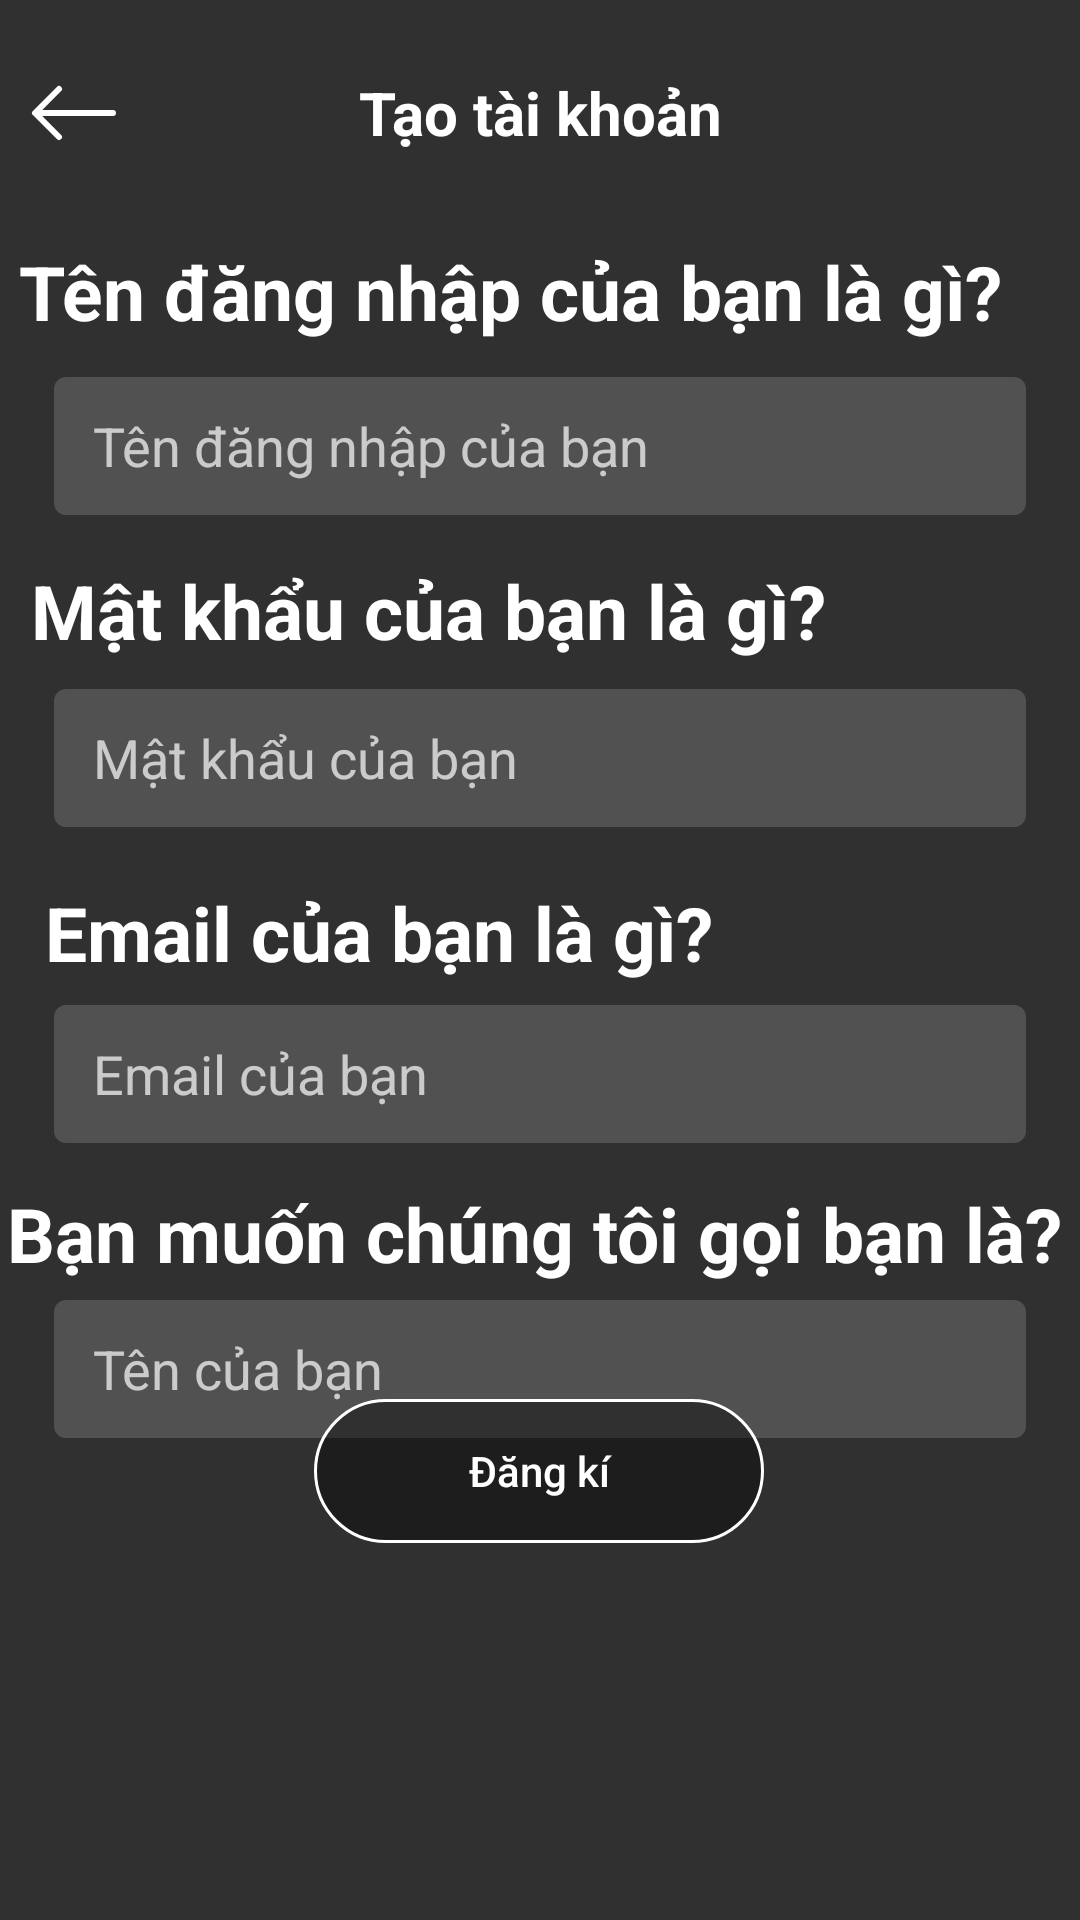

Named icons in this screenshot (1080px×1920px) and their centers, [x,y]:
arrow left: [74,112]
